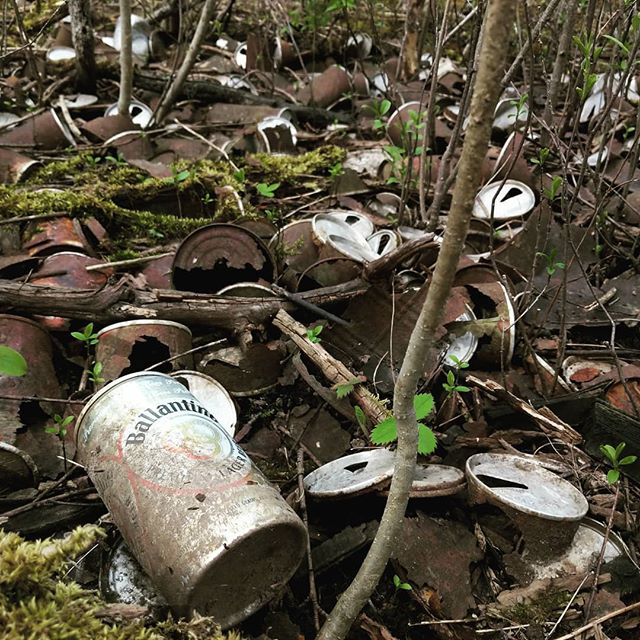trash: (6, 57, 640, 638)
